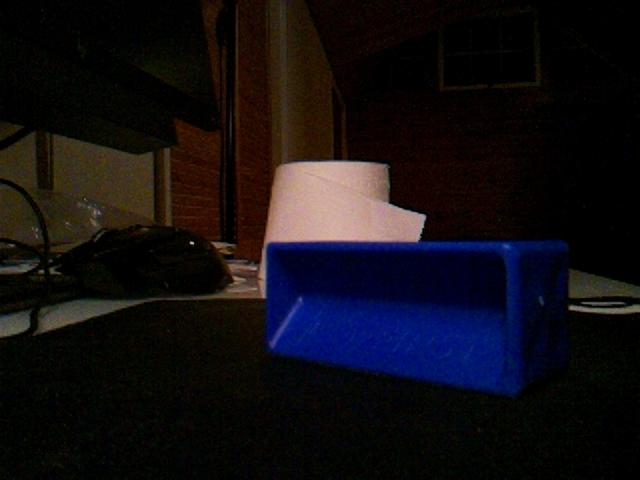blue: (263, 238, 571, 399)
